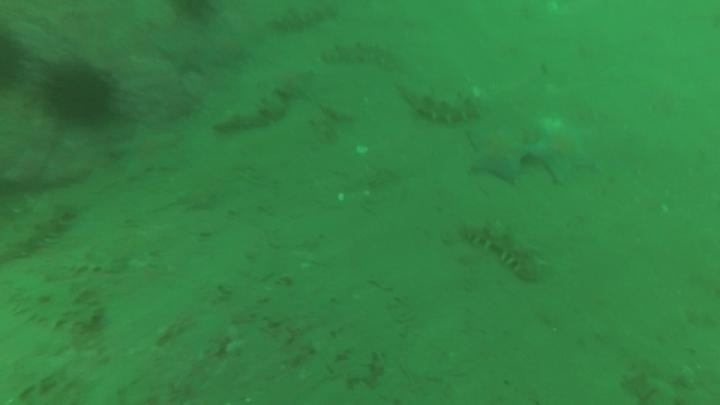echinus: (39, 59, 118, 127), (0, 28, 29, 94), (165, 0, 222, 27)
holothurian: (3, 271, 106, 333), (459, 216, 546, 285), (1, 200, 77, 264), (395, 77, 485, 128), (210, 90, 290, 136), (317, 37, 403, 72), (266, 2, 340, 36), (55, 245, 123, 278)
starfish: (525, 118, 598, 186), (464, 123, 531, 186), (112, 121, 182, 181), (155, 32, 216, 79), (175, 183, 220, 214)
